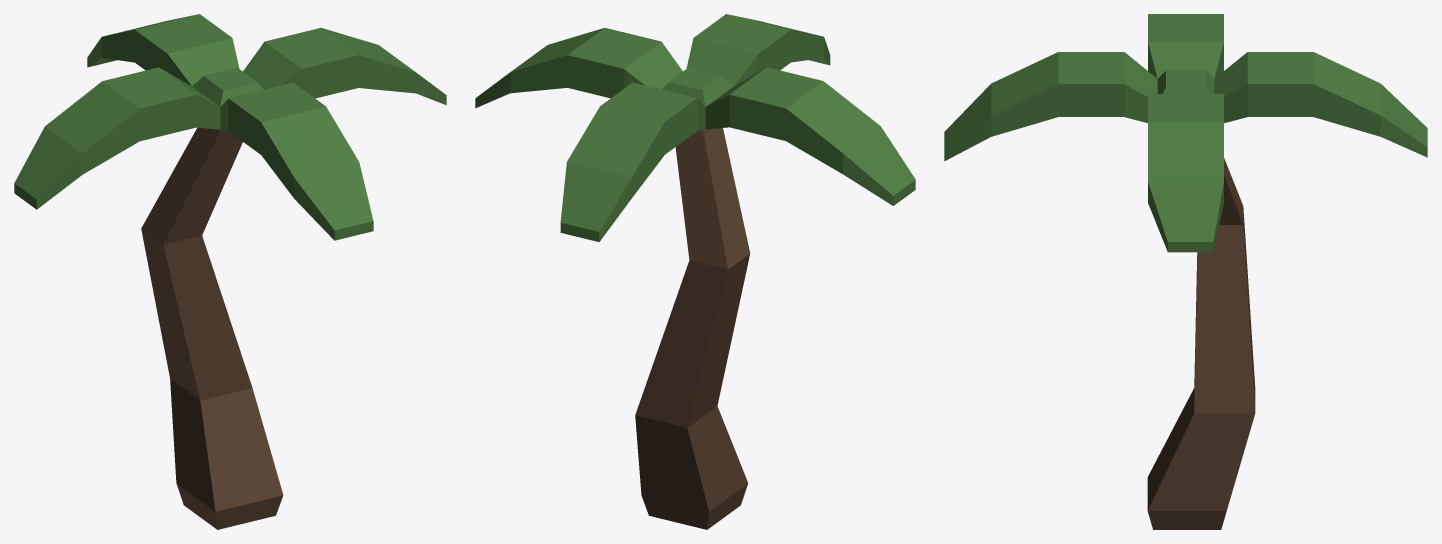
The model's file is nature-palm-short.glb.
The picture shows the model from 3 angles, left to right: view 1: azimuth 30°, elevation 25°; view 2: azimuth 150°, elevation 25°; view 3: azimuth 270°, elevation 25°; orthographic projection.
Visible parts, largest first — view 1: tree_palmShort; view 2: tree_palmShort; view 3: tree_palmShort.
Boxes of the visible parts, x1=… form: tree_palmShort: x1=14, y1=14, x2=446, y2=529; tree_palmShort: x1=475, y1=14, x2=915, y2=529; tree_palmShort: x1=944, y1=14, x2=1427, y2=529.
Bounding box in the file's own units: 1.03 × 1.06 × 1.03.
